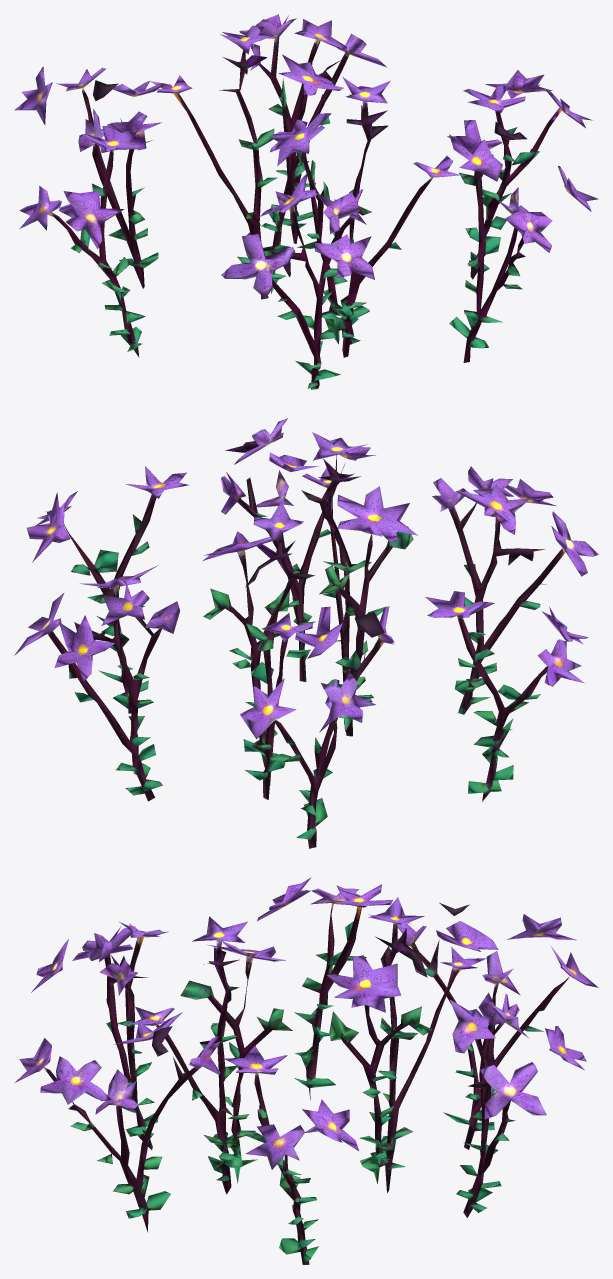
3 renders of one model, top to bottom at view 1: azimuth 30°, elevation 25°; view 2: azimuth 150°, elevation 25°; view 3: azimuth 270°, elevation 25°, orthographic. The views are drawn at different scales.
Parts seen in each view (by area): view 1: Mesh_0; view 2: Mesh_0; view 3: Mesh_0.
Part boxes in pixels (x1,y1,x2,y2): Mesh_0: (14,14,598,389); Mesh_0: (14,418,598,848); Mesh_0: (15,877,598,1264).
Size of the model in its own units: 1.92 by 0.9171 by 1.76.
Materials: 1 (1 with a texture image).
